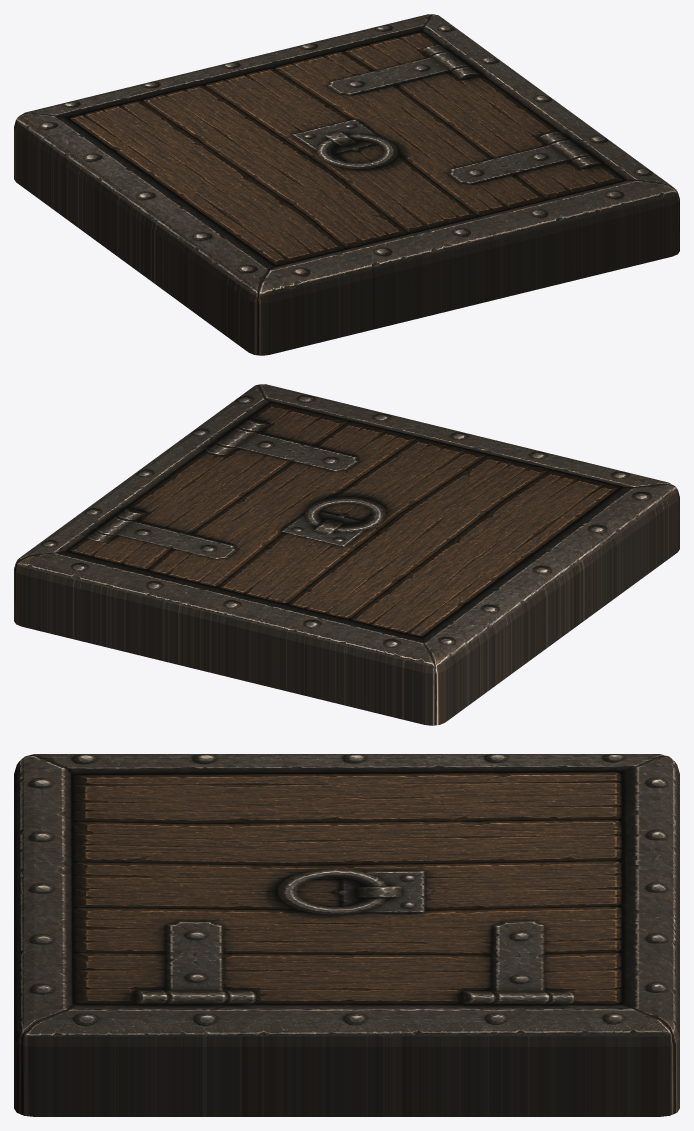
The model's file is Hatch.fbx.
The picture shows the model from 3 angles, top to bottom: view 1: azimuth 30°, elevation 25°; view 2: azimuth 150°, elevation 25°; view 3: azimuth 270°, elevation 25°; orthographic projection. The views are drawn at different scales.
Visible parts, largest first — view 1: hatch_placeholder; view 2: hatch_placeholder; view 3: hatch_placeholder.
Part boxes in pixels (<box>): hatch_placeholder: <box>14,14,679,355</box>; hatch_placeholder: <box>14,384,679,725</box>; hatch_placeholder: <box>14,754,679,1116</box>.
Bounding box in the file's own units: 100 × 14.62 × 100.
1 material, 1 textured.
